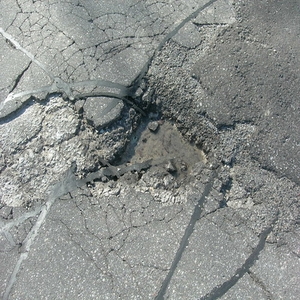pothole: (106, 85, 219, 209)
